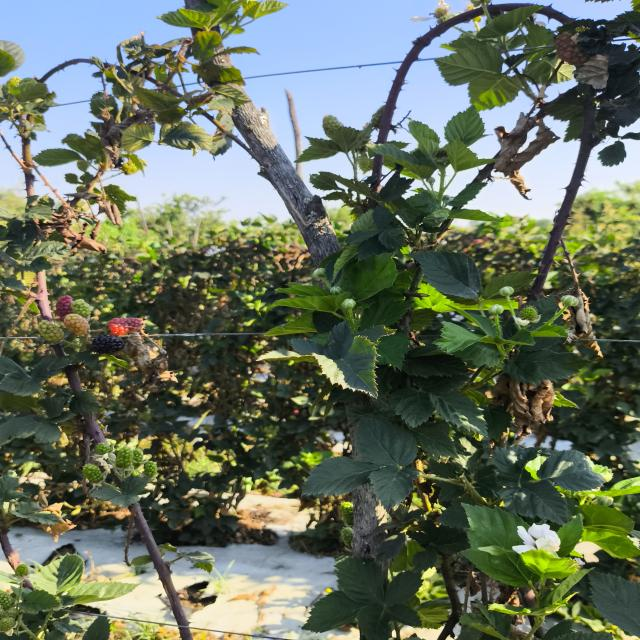boton: (561, 295, 579, 307), (488, 304, 504, 316), (341, 298, 356, 309), (499, 286, 514, 297), (330, 286, 342, 295), (314, 268, 325, 277)
flor: (512, 524, 560, 554)
maduro: (92, 334, 125, 354)
naranja: (108, 318, 143, 335), (56, 295, 73, 321)
verde: (38, 320, 64, 343), (64, 313, 89, 335), (82, 464, 102, 483), (116, 447, 134, 467), (71, 300, 92, 317), (144, 460, 157, 477), (132, 448, 144, 465), (95, 442, 110, 455)
